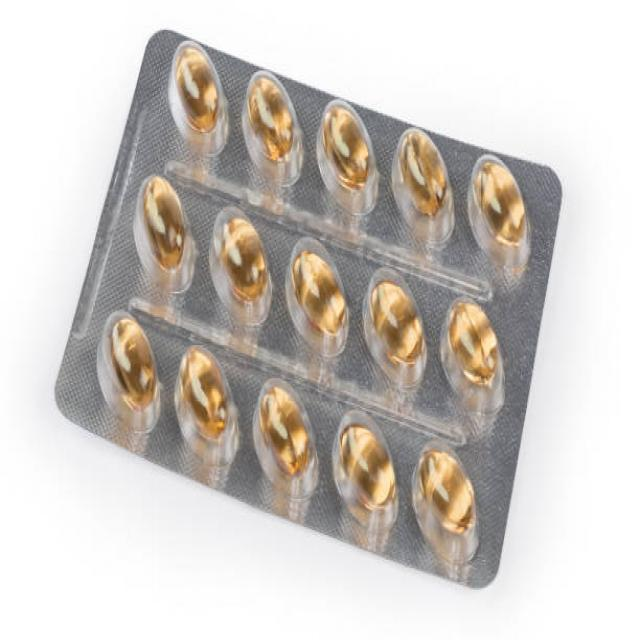Pill: (314, 90, 384, 228), (250, 363, 318, 503), (282, 230, 352, 363), (207, 195, 274, 333), (330, 403, 399, 529), (413, 434, 479, 564), (388, 124, 459, 244), (357, 261, 424, 388), (90, 308, 162, 424), (170, 333, 234, 463), (443, 287, 505, 413), (130, 162, 188, 292), (243, 67, 302, 186), (466, 152, 527, 261), (167, 37, 229, 143)
